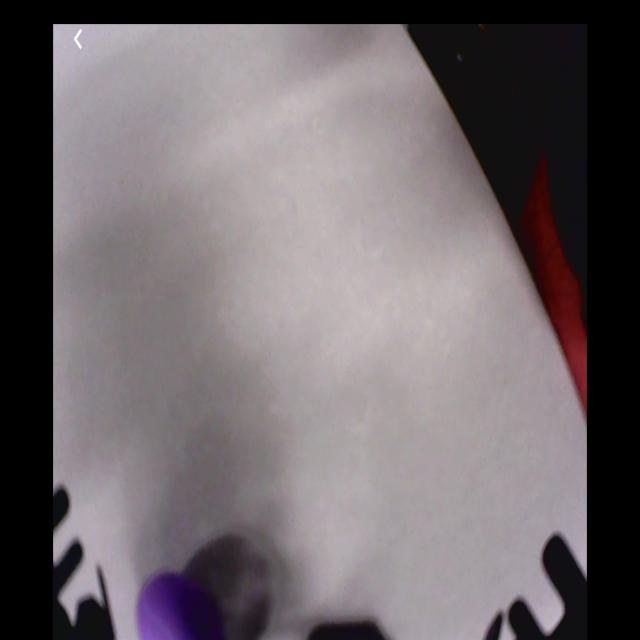ball: (138, 571, 222, 640)
